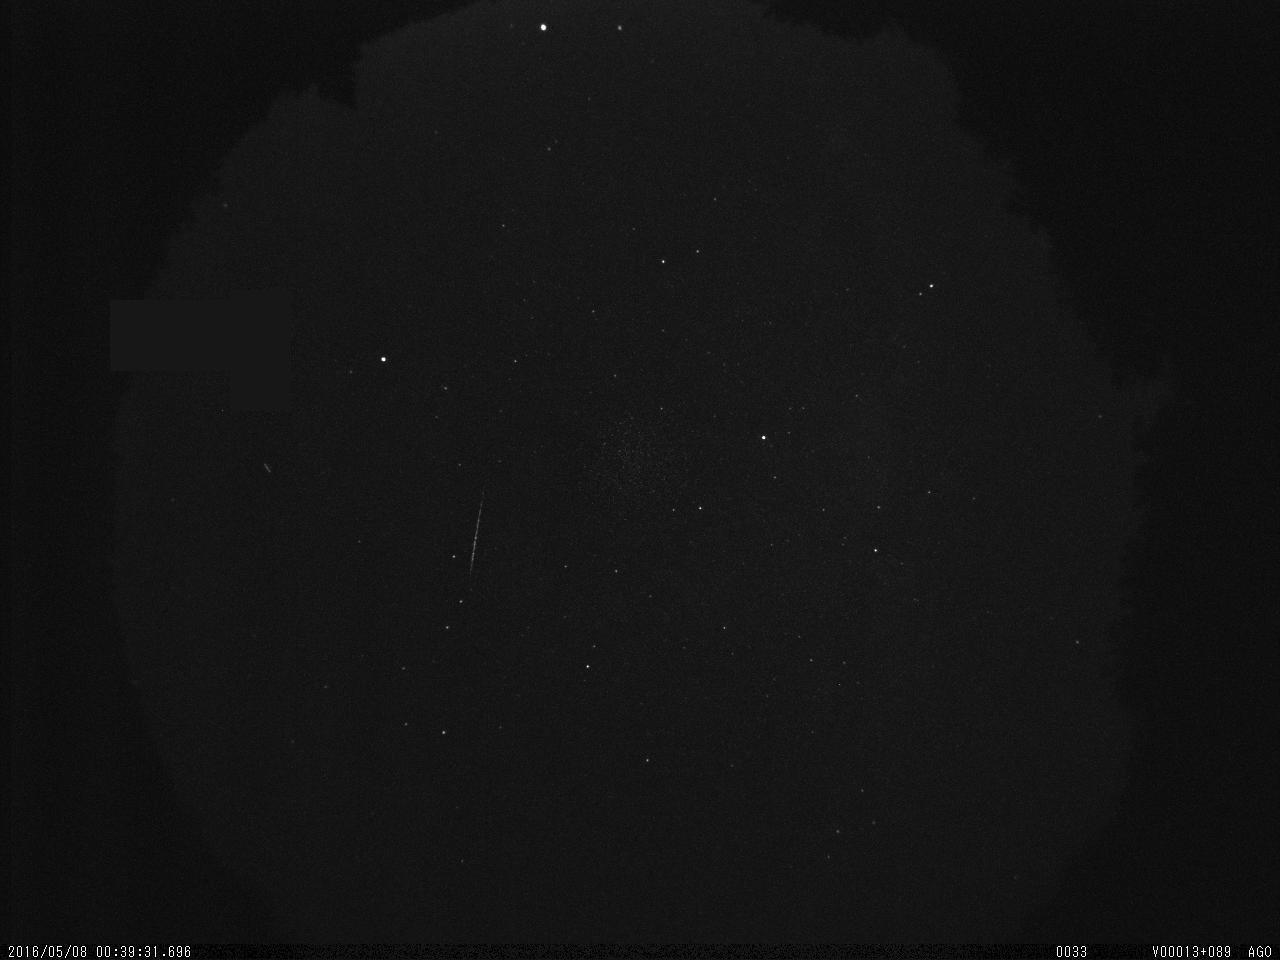Meteor: (459, 486, 496, 592)
